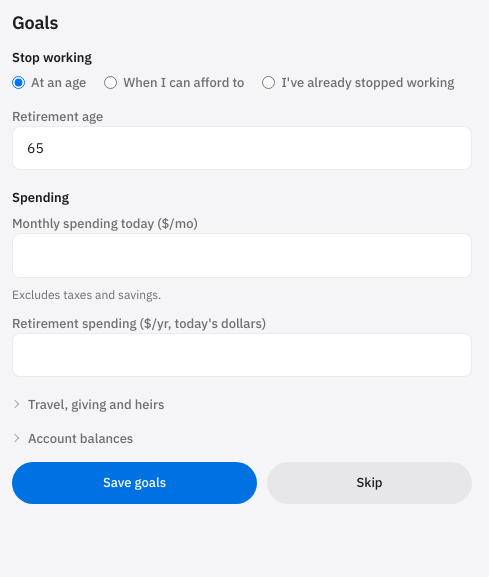
Test: goals › refuses a retirement age already reached, without writing
Replace the text in the number field labelled "Retirement age" with "36" at {"x": 242, "y": 148}, box top-left (12, 126), bottom-right (472, 170)
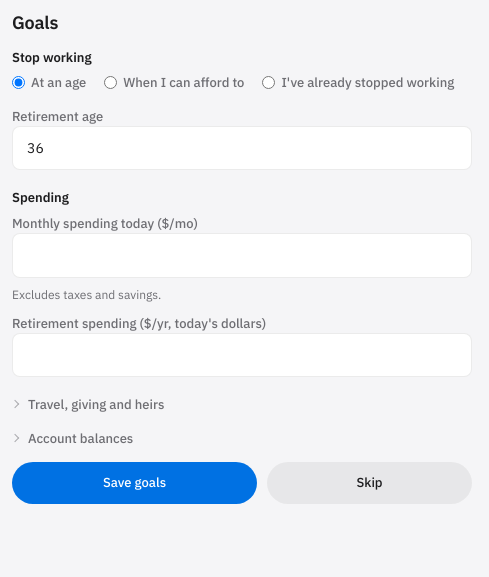
Click the button "Save goals" at {"x": 134, "y": 484}, box top-left (12, 462), bottom-right (257, 504)
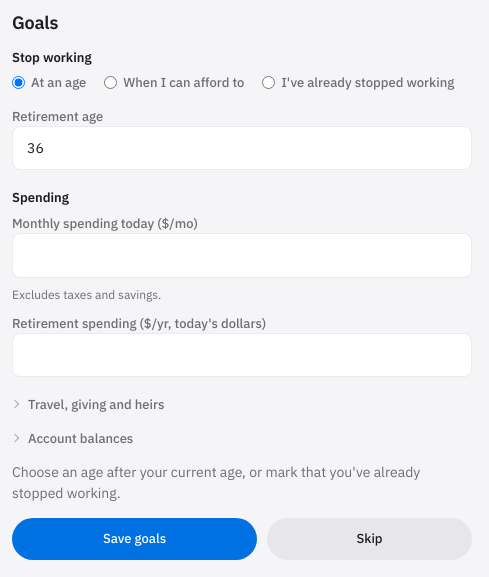
Check: the message shows "Choose an age after your current age, or mark that you've already stopped working.", box top-left (12, 464), bottom-right (420, 502)
